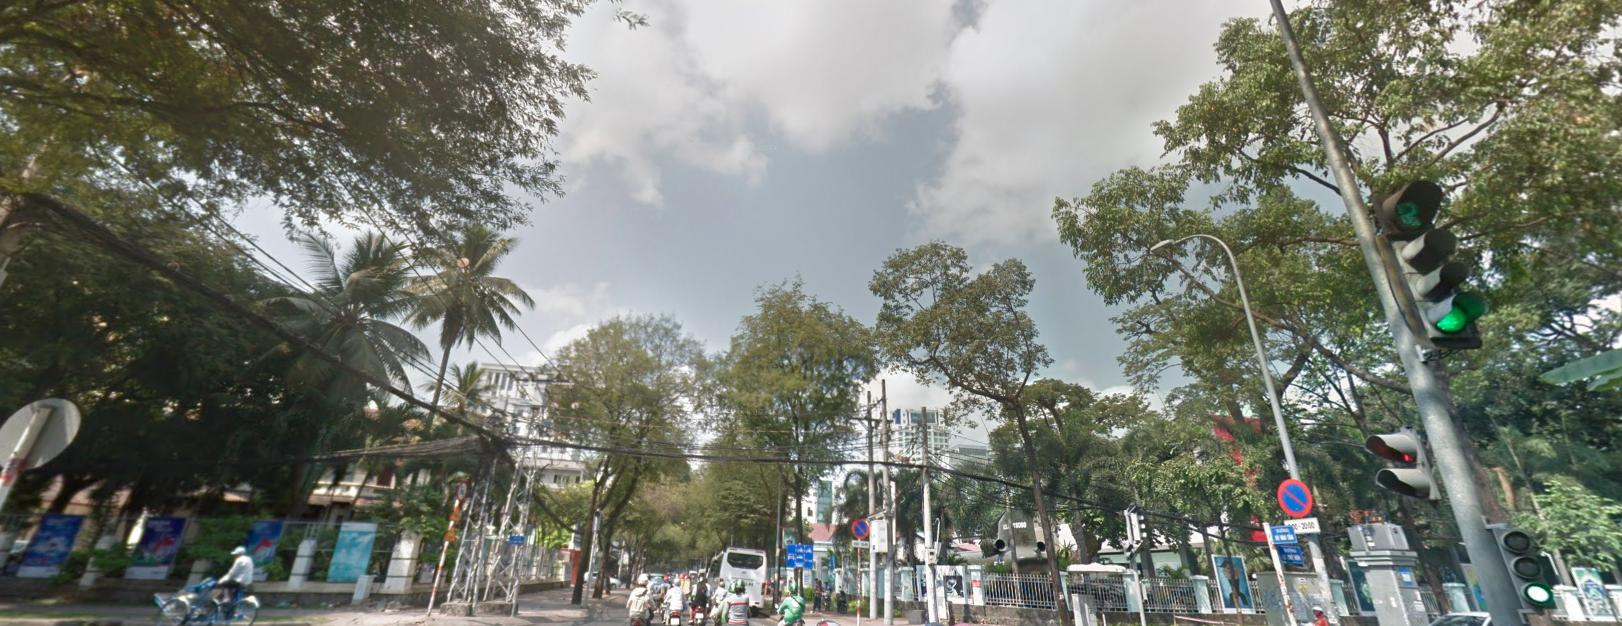Cam con lai: (455, 478, 467, 499)
Cam dung va do: (1276, 477, 1312, 516), (851, 518, 869, 538)
Nguy hiem: (447, 503, 459, 520), (443, 521, 454, 540)
